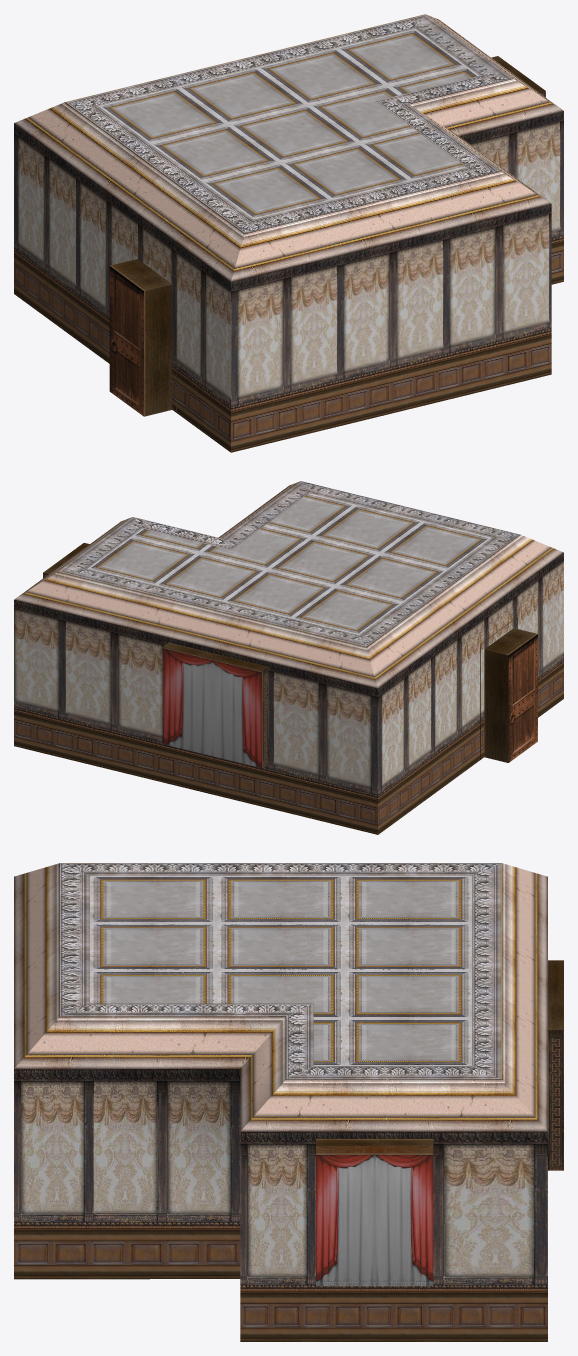
3 renders of one model, top to bottom at view 1: azimuth 30°, elevation 25°; view 2: azimuth 150°, elevation 25°; view 3: azimuth 270°, elevation 25°, orthographic. The views are drawn at different scales.
Parts seen in each view (by area): view 1: rd_r3; view 2: rd_r3; view 3: rd_r3.
Boxes of the visible parts, x1=… form: rd_r3: x1=14, y1=14, x2=563, y2=452; rd_r3: x1=14, y1=481, x2=563, y2=834; rd_r3: x1=14, y1=863, x2=563, y2=1341.
Size of the model in its own units: 8.56 by 3.47 by 7.12.
14 materials, 14 textured.
